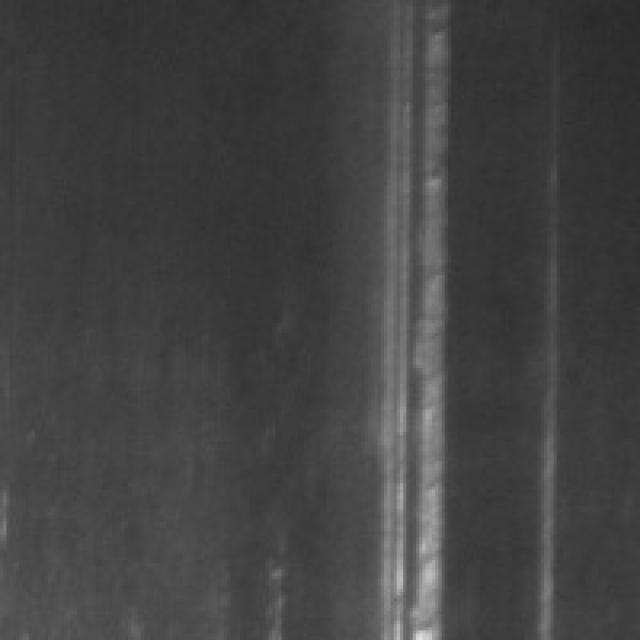scratches: (368, 0, 451, 637), (525, 182, 563, 634)
